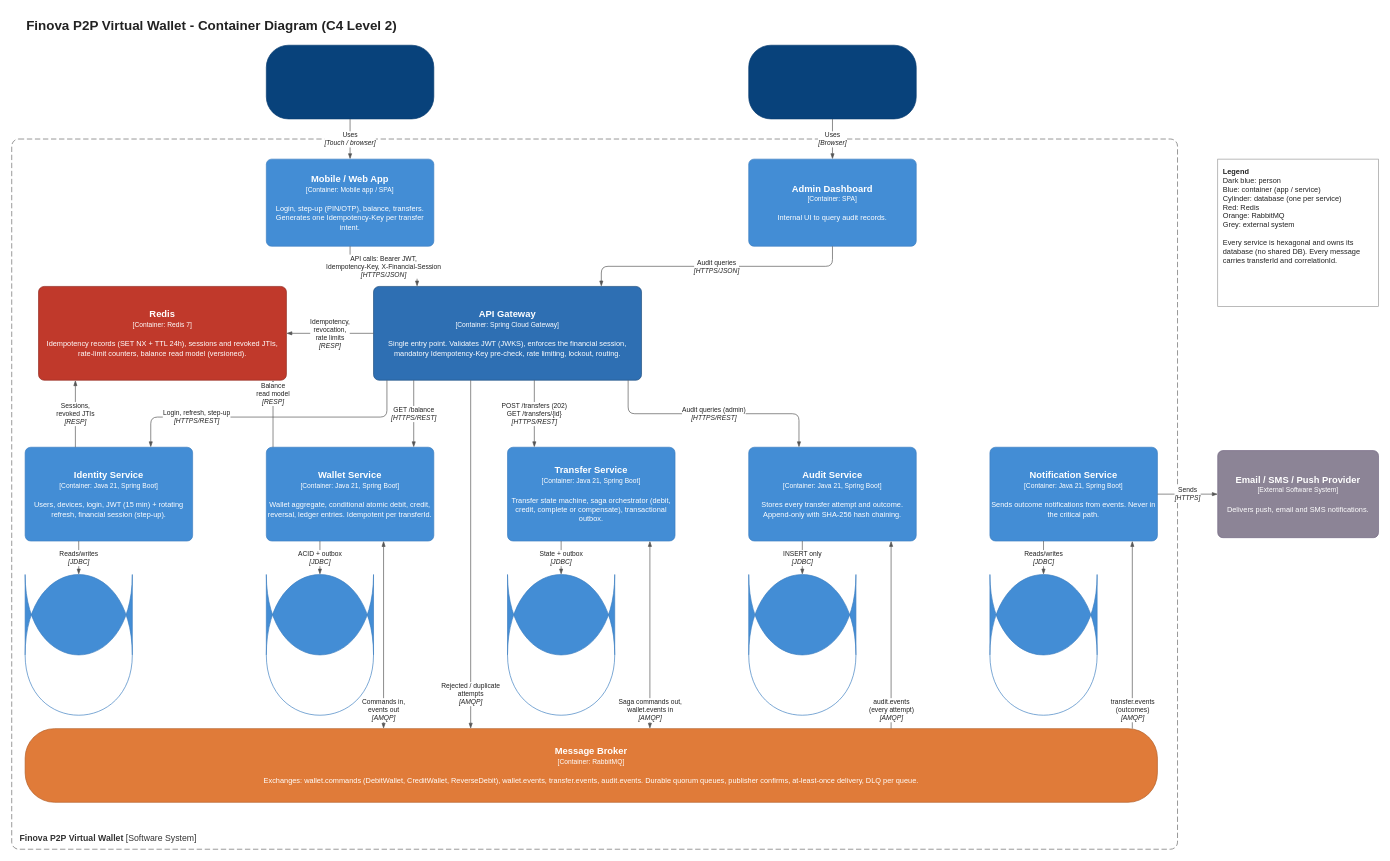
Image size: 1390x861. Some labels were removed from this diagram. Here are the shapes that lost their labels. From the top down, the box of each, then its label:
(266, 45, 434, 119): Wallet User [Person] Checks balance and sends money.
(748, 45, 916, 119): Operations / Compliance Analyst [Person] Reviews the audit trail.
(24, 574, 132, 655): Identity DB [Container: PostgreSQL 16] users, devices, sessions
(266, 574, 374, 655): Wallet DB [Container: PostgreSQL 16] wallets, ledger_entries, outbox
(507, 574, 615, 655): Transfer DB [Container: PostgreSQL 16] transfers, saga state, outbox
(748, 574, 856, 655): Audit DB [Container: PostgreSQL 16] audit_records (INSERT only)
(989, 574, 1097, 655): Notification DB [Container: PostgreSQL 16] notification_log
